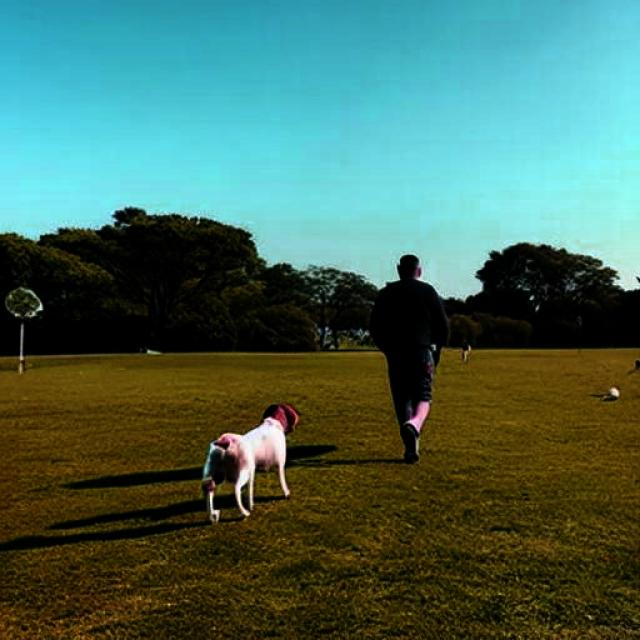Unleashed_Dog: (201, 350, 435, 524)
